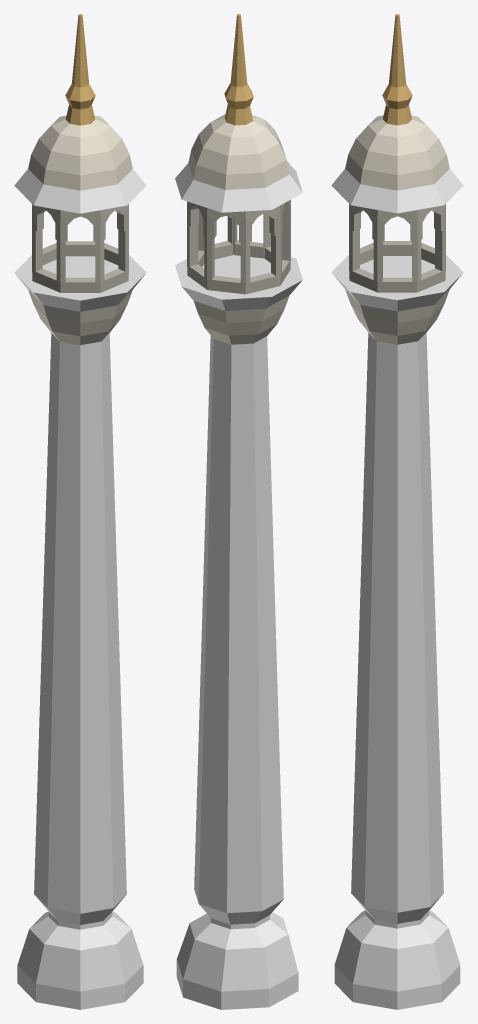
File: delh_prop_02.fbx
The picture shows the model from 3 angles, left to right: view 1: azimuth 90°, elevation 25°; view 2: azimuth 210°, elevation 25°; view 3: azimuth 270°, elevation 25°; orthographic projection.
Visible parts, largest first — view 1: delh_prop_02_pillar; view 2: delh_prop_02_pillar; view 3: delh_prop_02_pillar.
Boxes of the visible parts, x1,y1,x2,y2 form: delh_prop_02_pillar: (14, 14, 146, 1009); delh_prop_02_pillar: (175, 14, 302, 1009); delh_prop_02_pillar: (331, 14, 463, 1009).
Size of what is drawn, in the model's own units: 53.63 by 433 by 53.63.
